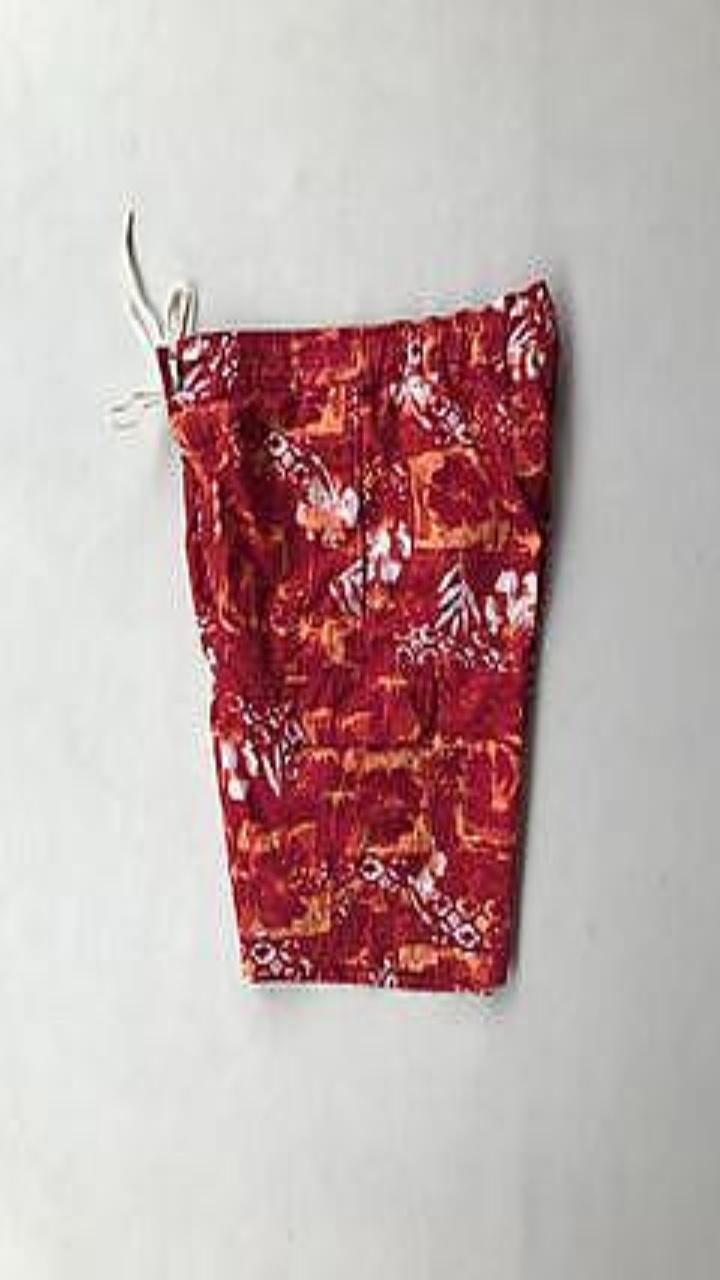Shorts: (157, 279, 557, 991)
